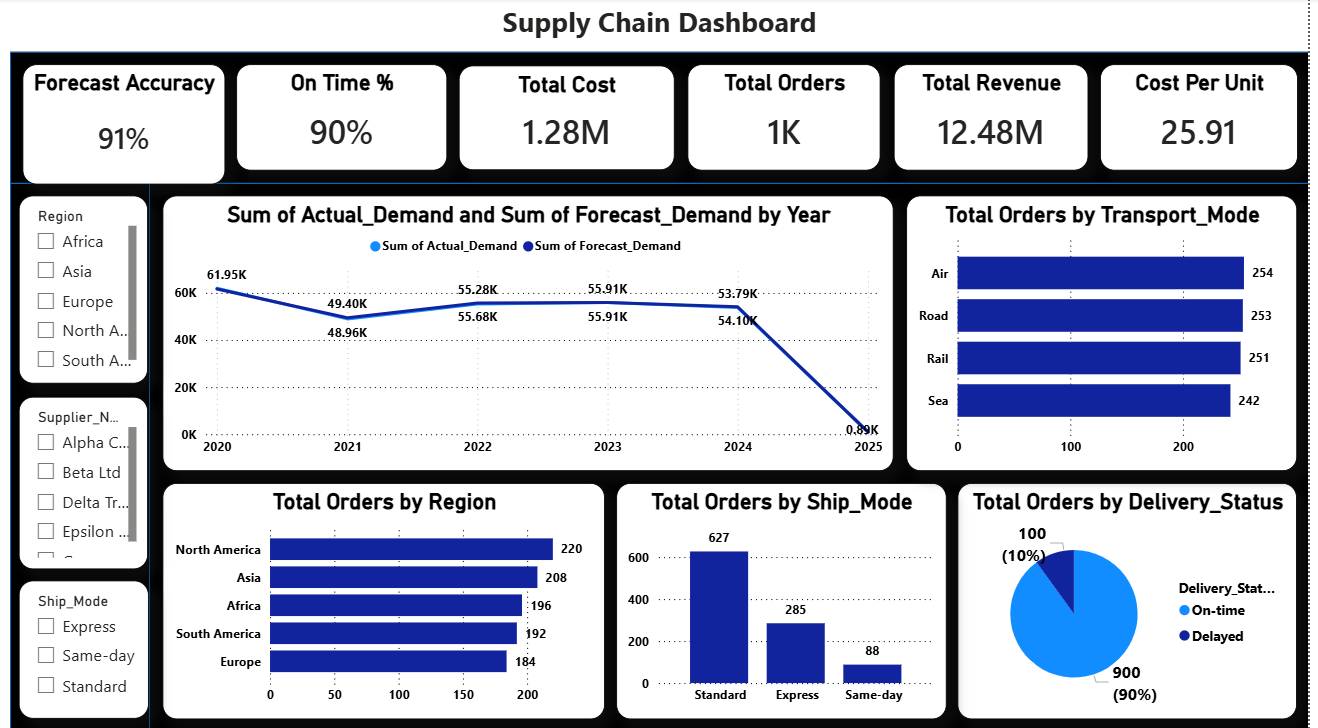

Layout of this report page (visuals, bound fields, positions):
{"tool":"powerbi","page":{"name":"Dashboard","canvas":[1280,720],"ordinal":7},"visuals":[{"type":"textbox","box":[9.5,0,1271.1,52],"z":0},{"type":"shape","box":[9.5,52,1271.1,129.2],"z":1000},{"type":"shape","box":[144.9,181.1,1135.6,538.7],"z":2000},{"type":"shape","box":[9.5,181.1,137,537.1],"z":3000},{"type":"cardVisual","title":"Forecast Accuracy","fields":{"Data":["Order_ID (Supply Chain).Forecast Accuracy"]},"box":[22,64.8,198.1,117.4],"z":4000},{"type":"cardVisual","title":"On Time %","fields":{"Data":["Order_ID (Supply Chain).On Time %"]},"box":[231.5,64.6,206.3,104],"z":5000},{"type":"cardVisual","title":"Total Cost","fields":{"Data":["Order_ID (Supply Chain).Total Cost"]},"box":[448.9,66.2,211.1,102.4],"z":6000},{"type":"cardVisual","title":"Total Orders","fields":{"Data":["Order_ID (Supply Chain).Total Orders"]},"box":[672.6,64.6,189,104],"z":7000},{"type":"cardVisual","title":"Total Revenue","fields":{"Data":["Order_ID (Supply Chain).Total Revenue"]},"box":[874.2,64.6,190.6,104],"z":8000},{"type":"cardVisual","title":"Cost Per Unit","fields":{"Data":["Order_ID (Supply Chain).Cost per Unit"]},"box":[1075.8,64.6,193.7,104],"z":9000},{"type":"lineChart","fields":{"Category":["Order_ID (Supply Chain).Order_Date.Variation.Date Hierarchy.Year","Order_ID (Supply Chain).Order_Date.Variation.Date Hierarchy.Quarter","Order_ID (Supply Chain).Order_Date.Variation.Date Hierarchy.Month","Order_ID (Supply Chain).Order_Date.Variation.Date Hierarchy.Day"],"Y":["Sum(Order_ID (Supply Chain).Actual_Demand)","Sum(Order_ID (Supply Chain).Forecast_Demand)"]},"box":[159.1,193.7,715.1,269.3],"z":10000},{"type":"pieChart","fields":{"Category":["Order_ID (Supply Chain).Delivery_Status"],"Y":["Order_ID (Supply Chain).Total Orders"]},"box":[937.2,474.1,332.3,231.5],"z":11000},{"type":"clusteredBarChart","fields":{"Category":["Order_ID (Supply Chain).Region"],"Y":["Order_ID (Supply Chain).Total Orders"]},"box":[159.1,474.1,433.1,231.5],"z":12000},{"type":"clusteredColumnChart","fields":{"Y":["Order_ID (Supply Chain).Total Orders"],"Category":["Order_ID (Supply Chain).Ship_Mode"]},"box":[603.3,474.1,322.9,231.5],"z":13000},{"type":"clusteredBarChart","fields":{"Category":["Order_ID (Supply Chain).Transport_Mode"],"Y":["Order_ID (Supply Chain).Total Orders"]},"box":[886.8,193.7,382.7,269.3],"z":14000},{"type":"slicer","fields":{"Values":["Order_ID (Supply Chain).Region"]},"box":[18.9,193.7,126,184.3],"z":15000},{"type":"slicer","fields":{"Values":["Order_ID (Supply Chain).Supplier_Name"]},"box":[18.9,390.6,126,168.5],"z":16000},{"type":"slicer","fields":{"Values":["Order_ID (Supply Chain).Ship_Mode"]},"box":[18.9,570.2,127.6,135.5],"z":17000}]}

Visuals, with their boxes in screenshot pixels (x1, y1, x2, y2), scaled from the page's 1280x720 canvas onto the 1318x728 screenshot:
textbox: box=[10, 0, 1317, 53]
shape: box=[10, 53, 1317, 183]
shape: box=[149, 183, 1317, 727]
shape: box=[10, 183, 151, 726]
"Forecast Accuracy" cardVisual: box=[23, 66, 227, 184]
"On Time %" cardVisual: box=[238, 65, 451, 170]
"Total Cost" cardVisual: box=[462, 67, 680, 170]
"Total Orders" cardVisual: box=[693, 65, 887, 170]
"Total Revenue" cardVisual: box=[900, 65, 1096, 170]
"Cost Per Unit" cardVisual: box=[1108, 65, 1307, 170]
lineChart - Order_ID (Supply Chain).Order_Date.Variation.Date Hierarchy.Year x Order_ID (Supply Chain).Order_Date.Variation.Date Hierarchy.Quarter: box=[164, 196, 900, 468]
pieChart - Order_ID (Supply Chain).Delivery_Status x Order_ID (Supply Chain).Total Orders: box=[965, 479, 1307, 713]
clusteredBarChart - Order_ID (Supply Chain).Region x Order_ID (Supply Chain).Total Orders: box=[164, 479, 610, 713]
clusteredColumnChart - Order_ID (Supply Chain).Total Orders x Order_ID (Supply Chain).Ship_Mode: box=[621, 479, 954, 713]
clusteredBarChart - Order_ID (Supply Chain).Transport_Mode x Order_ID (Supply Chain).Total Orders: box=[913, 196, 1307, 468]
slicer - Order_ID (Supply Chain).Region: box=[19, 196, 149, 382]
slicer - Order_ID (Supply Chain).Supplier_Name: box=[19, 395, 149, 565]
slicer - Order_ID (Supply Chain).Ship_Mode: box=[19, 577, 151, 714]
